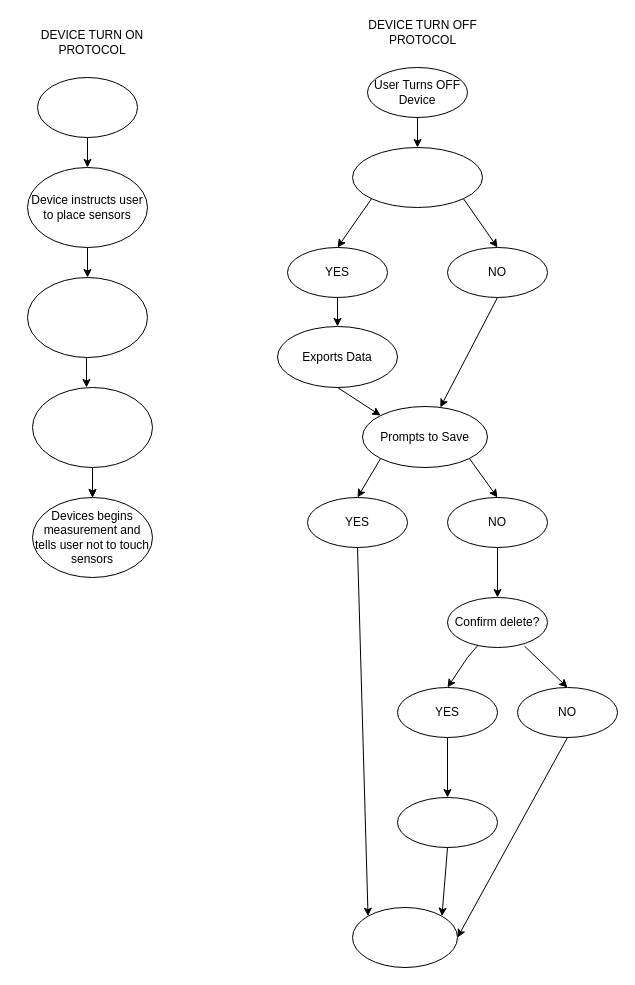
The diagram is 635 pixels wide and 985 high, and some of its shapes have lost their labels. The shapes that lost their labels are listed below. From the top down, each one's box as (x1, y1, x2, y2) in pixels, then its label:
(36, 76, 138, 138): User Turns ON Device
(352, 146, 482, 208): Device prompts message/question to export Data
(26, 276, 148, 358): User places sensors
(32, 386, 152, 468): User presses "MEASURE" to confirm all sensors have been placed
(396, 796, 498, 848): Deletes Data
(352, 906, 458, 968): Turns off Device
